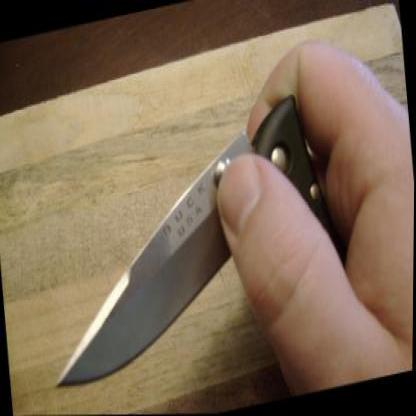knife: (24, 80, 321, 393)
